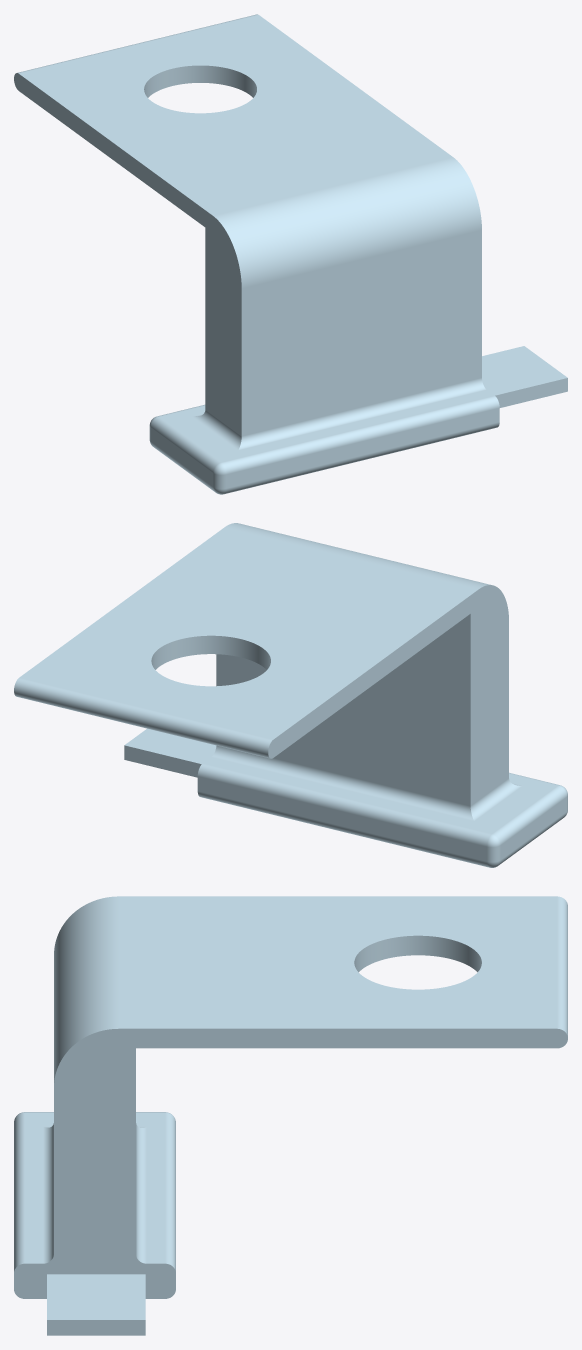
The model's file is suction-cup-v1.gltf.
3 views of the same model, one above another, from view 1: azimuth 30°, elevation 25°; view 2: azimuth 150°, elevation 25°; view 3: azimuth 270°, elevation 25° (orthographic). The views are drawn at different scales.
Visible parts, largest first — view 1: Part 1; view 2: Part 1; view 3: Part 1.
Boxes of the visible parts, x1,y1,x2,y2 form: Part 1: (14,14,567,494); Part 1: (14,523,567,867); Part 1: (14,896,567,1335).
Bounding box in the file's own units: 0.0559 × 0.0351 × 0.0652.
